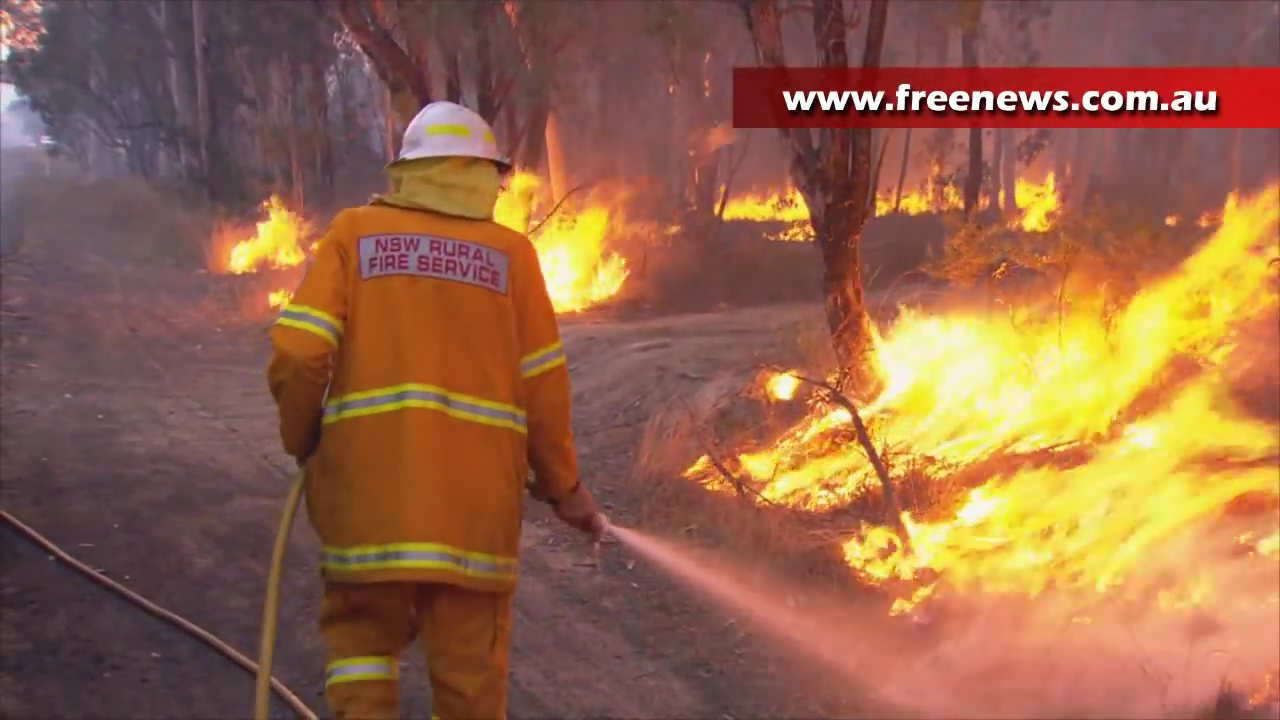fire: (697, 306, 1279, 606), (492, 175, 626, 319), (1145, 188, 1279, 307), (228, 193, 300, 269), (1016, 171, 1058, 231), (730, 193, 808, 219), (770, 373, 798, 398), (271, 291, 290, 308)
